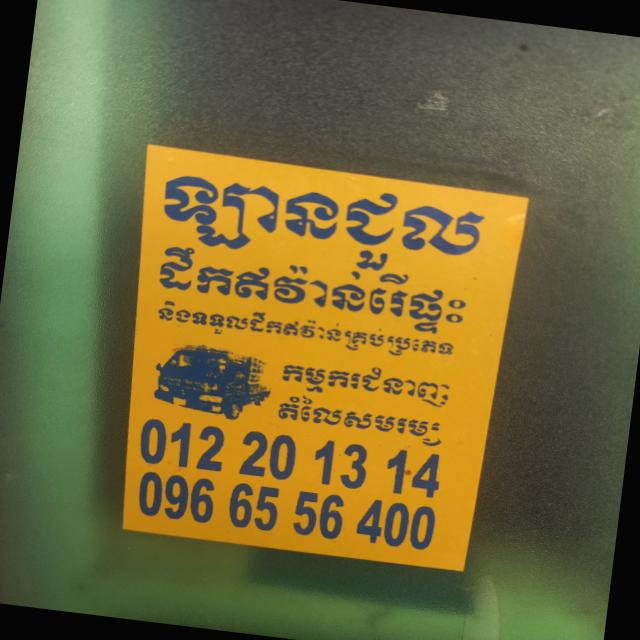246: (134, 417, 447, 498)
465: (136, 470, 440, 551)
Yolov11kh: (157, 161, 498, 272), (152, 243, 472, 334), (153, 297, 458, 362), (278, 353, 462, 409), (272, 391, 448, 447)
